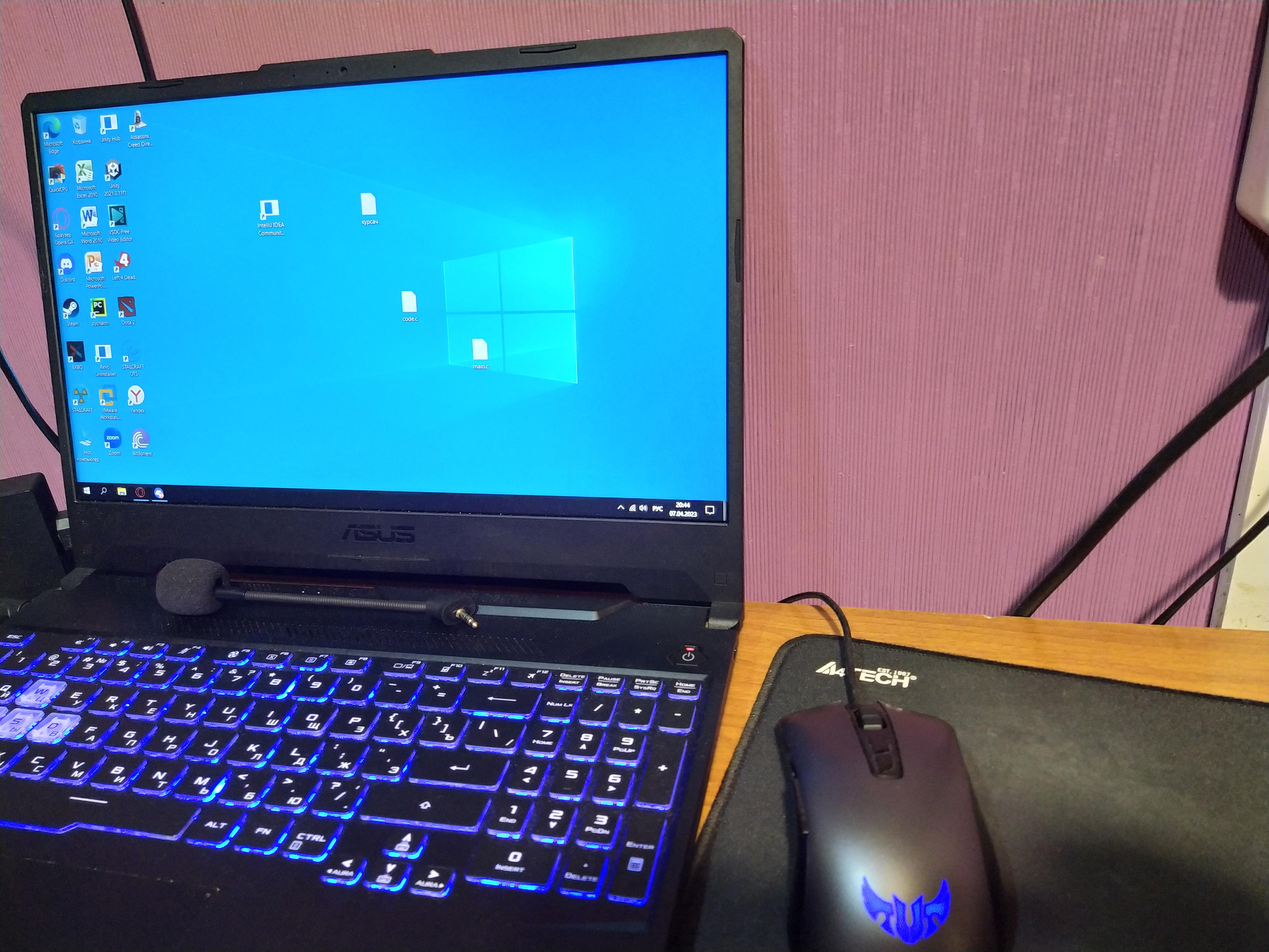monitor: (19, 22, 752, 589)
